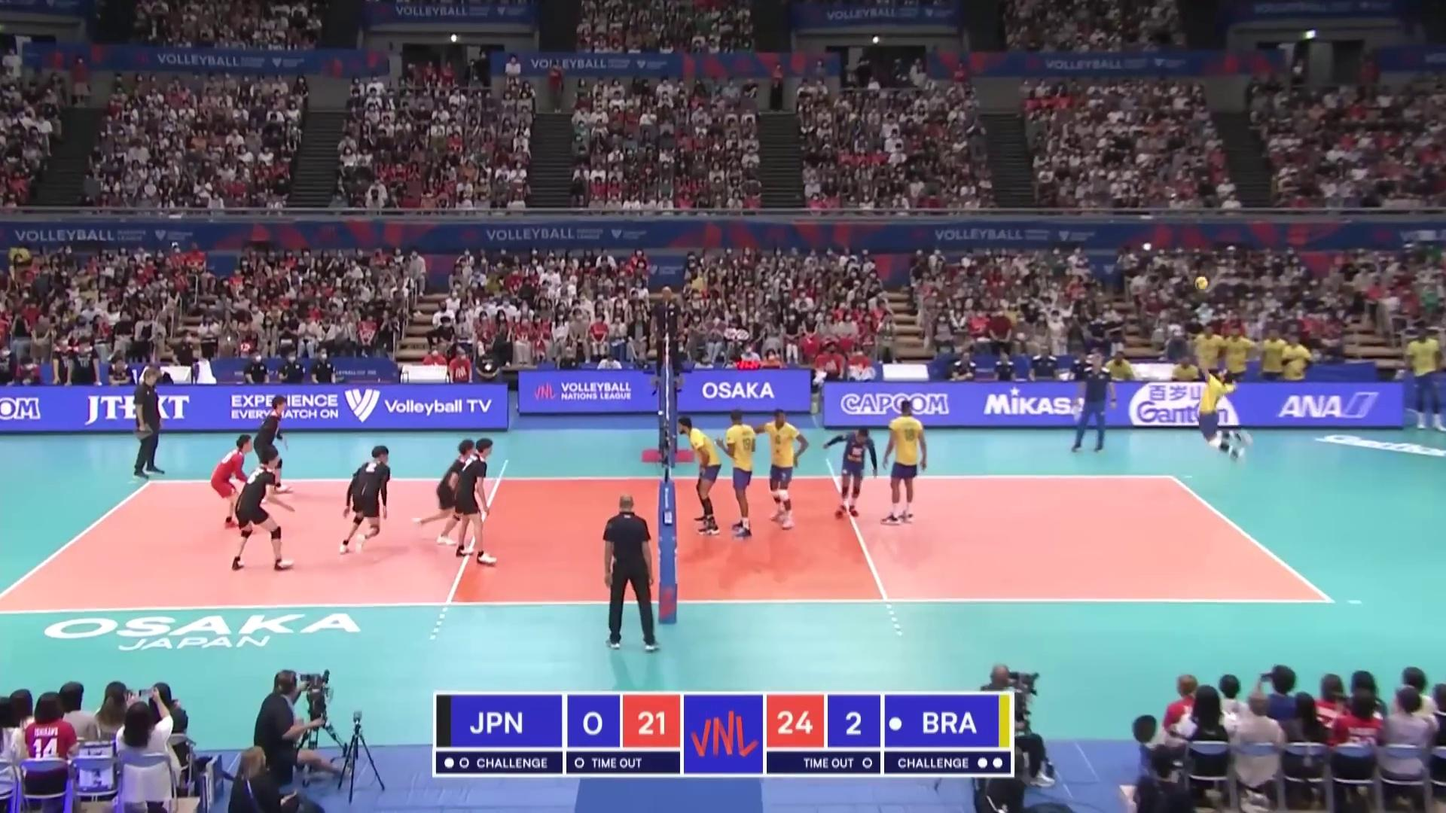player: (227, 447, 295, 573), (1184, 352, 1256, 462), (413, 440, 475, 543), (335, 446, 391, 557), (455, 438, 497, 568), (883, 400, 927, 523), (677, 416, 721, 539), (761, 410, 804, 530), (720, 408, 759, 538), (249, 394, 293, 496), (833, 427, 877, 519), (212, 436, 255, 530)
refree: (601, 496, 656, 647), (649, 287, 684, 397)
